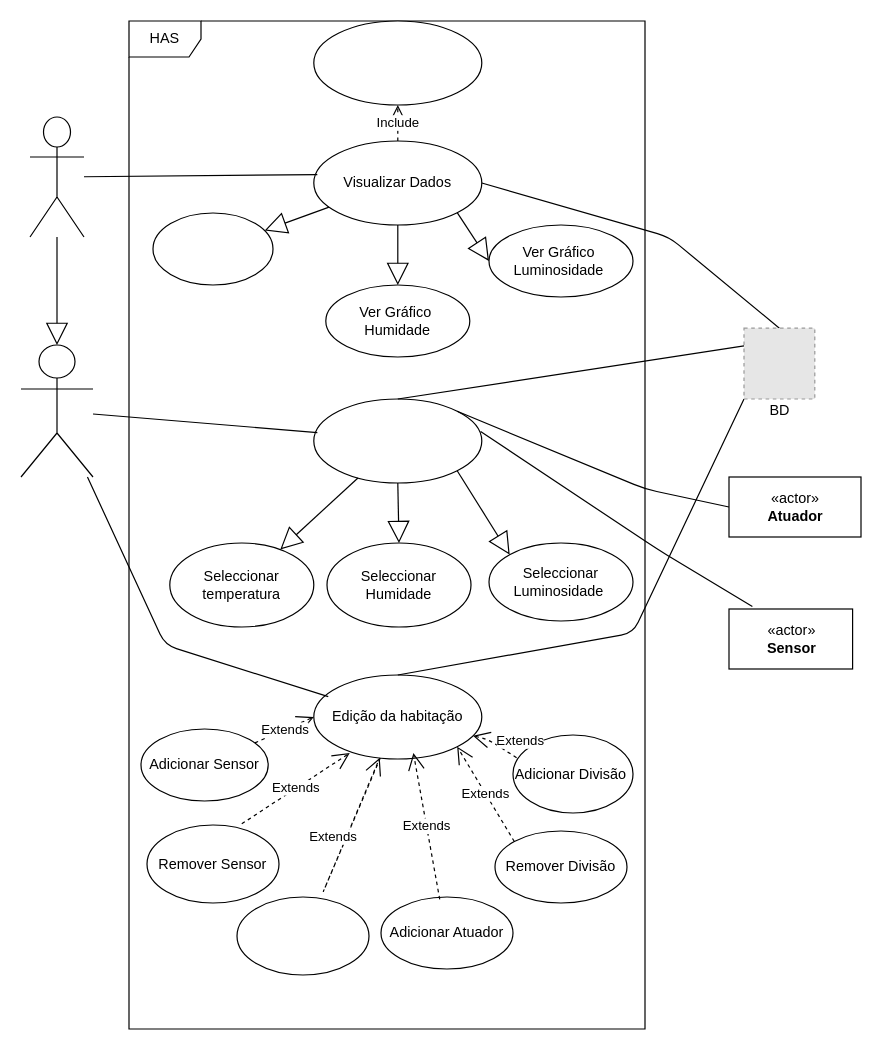
This 882x1050 diagram has some shape labels left out. Grey dashed boxes stand in for pictures. The centre of each missing label's shape, as x and y in pixels:
Controlo da Habitação: the point at 397,440
Login: the point at 397,62
Registado: the point at 56,176
Remover Atuador: the point at 302,935
Utilizdor: the point at 56,410
Ver Gráfico Temperatura: the point at 212,248
